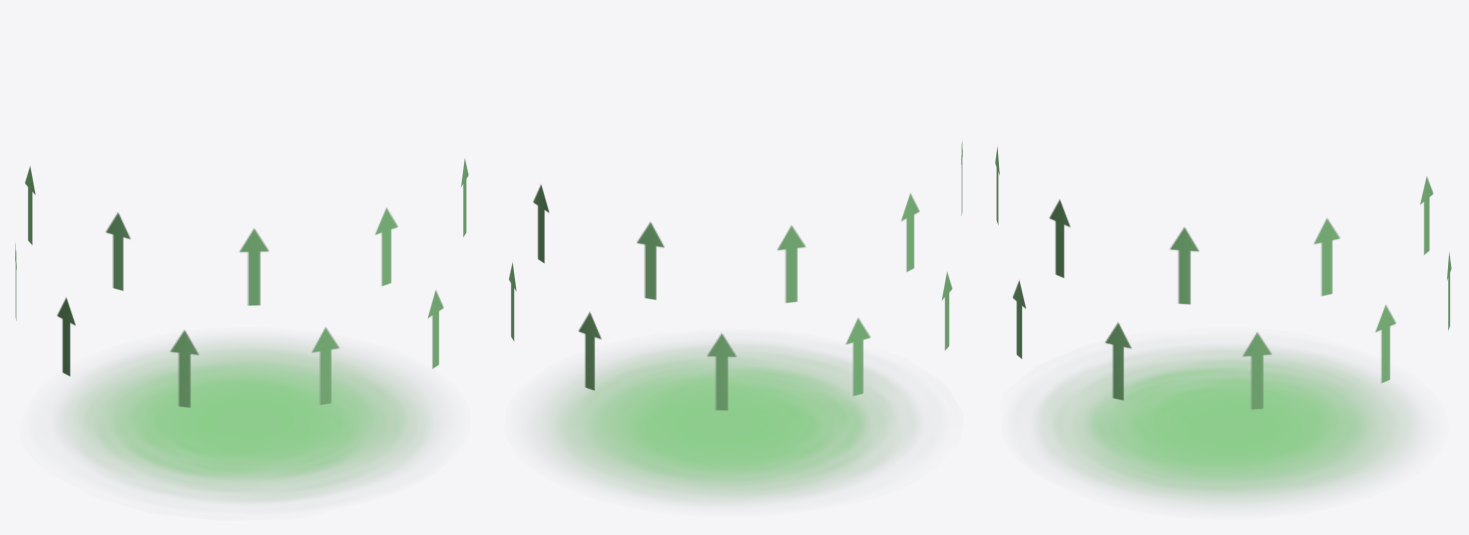
The model's file is EnemyToBigArrowMark_tex.gltf.
3 renders of one model, left to right at view 1: azimuth 30°, elevation 25°; view 2: azimuth 150°, elevation 25°; view 3: azimuth 270°, elevation 25°, orthographic.
Visible parts, largest first — view 1: jimen, mawari; view 2: jimen, mawari; view 3: jimen, mawari.
Boxes of the visible parts, x1=… form: jimen: x1=52, y1=336, x2=447, y2=508; mawari: x1=15, y1=158, x2=468, y2=407; jimen: x1=525, y1=340, x2=924, y2=506; mawari: x1=509, y1=141, x2=962, y2=410; jimen: x1=1016, y1=344, x2=1425, y2=510; mawari: x1=995, y1=147, x2=1451, y2=409.
Size of the model in its own units: 1.63 by 1.21 by 1.63.
Materials: 1 (1 with a texture image).
